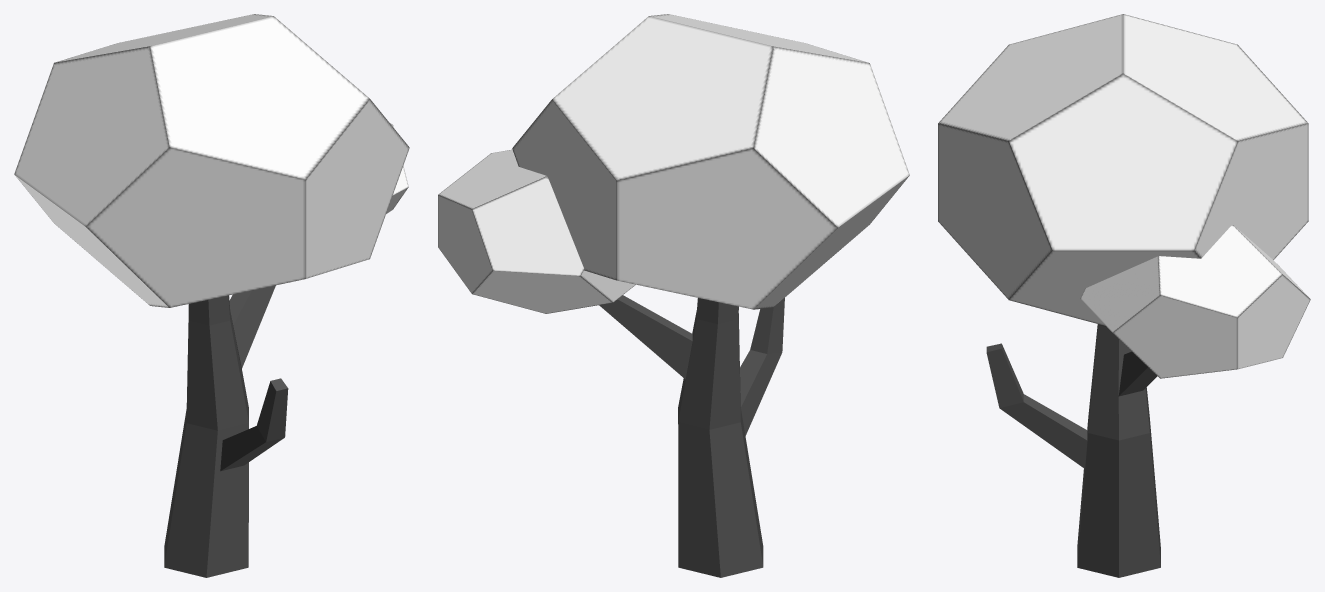
File: Tree-06.fbx
3 renders of one model, left to right at view 1: azimuth 30°, elevation 25°; view 2: azimuth 150°, elevation 25°; view 3: azimuth 270°, elevation 25°, orthographic.
Parts seen in each view (by area): view 1: Tree_06; view 2: Tree_06; view 3: Tree_06.
Part boxes in pixels (x1,y1,x2,y2): Tree_06: (14,14,409,577); Tree_06: (438,14,909,577); Tree_06: (938,14,1310,577).
Size of the model in its own units: 2.83 by 3.76 by 2.46.
